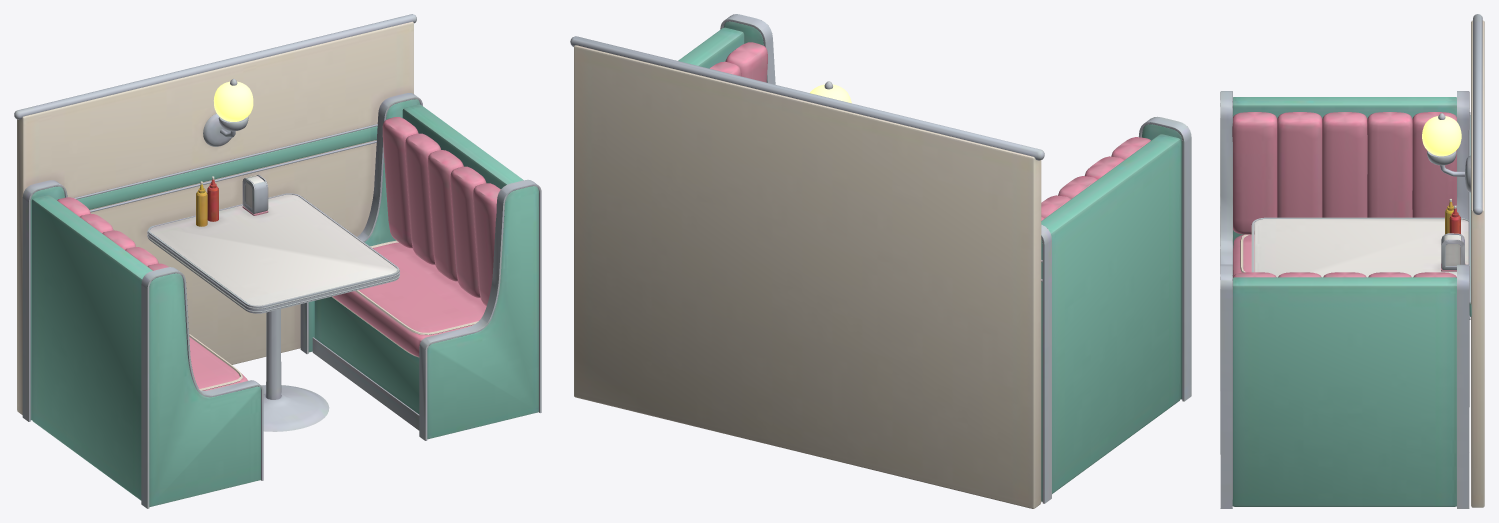
File: diner-booth-light.glb
3 renders of one model, left to right at view 1: azimuth 30°, elevation 25°; view 2: azimuth 150°, elevation 25°; view 3: azimuth 270°, elevation 25°, orthographic. The views are drawn at different scales.
Visible parts, largest first — view 1: diner-booth_body, diner-booth_glow_globe; view 2: diner-booth_body; view 3: diner-booth_body, diner-booth_glow_globe.
Boxes of the visible parts, x1=… form: diner-booth_body: x1=14, y1=14, x2=541, y2=508; diner-booth_glow_globe: x1=213, y1=81, x2=253, y2=121; diner-booth_body: x1=570, y1=14, x2=1191, y2=508; diner-booth_body: x1=1220, y1=14, x2=1484, y2=508; diner-booth_glow_globe: x1=1422, y1=116, x2=1461, y2=156.
Size of the model in its own units: 2.05 by 1.48 by 1.17.
2 materials, 1 textured.
